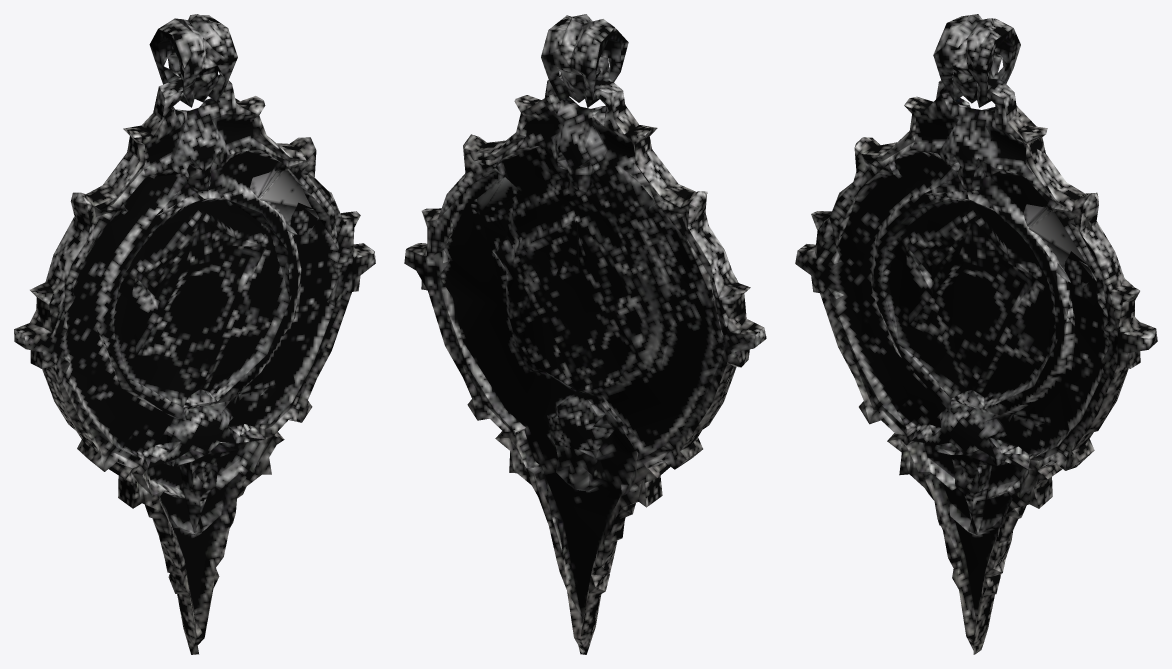
File: medallion_pendant_v3_LOD3.fbx
The picture shows the model from 3 angles, left to right: view 1: azimuth 30°, elevation 25°; view 2: azimuth 150°, elevation 25°; view 3: azimuth 330°, elevation 25°; orthographic projection.
Visible parts, largest first — view 1: medallion_pendant_v3_LOD3; view 2: medallion_pendant_v3_LOD3; view 3: medallion_pendant_v3_LOD3.
Part boxes in pixels (x1,y1,x2,y2): medallion_pendant_v3_LOD3: (14, 14, 375, 654); medallion_pendant_v3_LOD3: (404, 14, 766, 654); medallion_pendant_v3_LOD3: (795, 14, 1157, 654).
Size of the model in its own units: 0.0442 by 0.0751 by 0.00796.
1 material, 1 textured.
